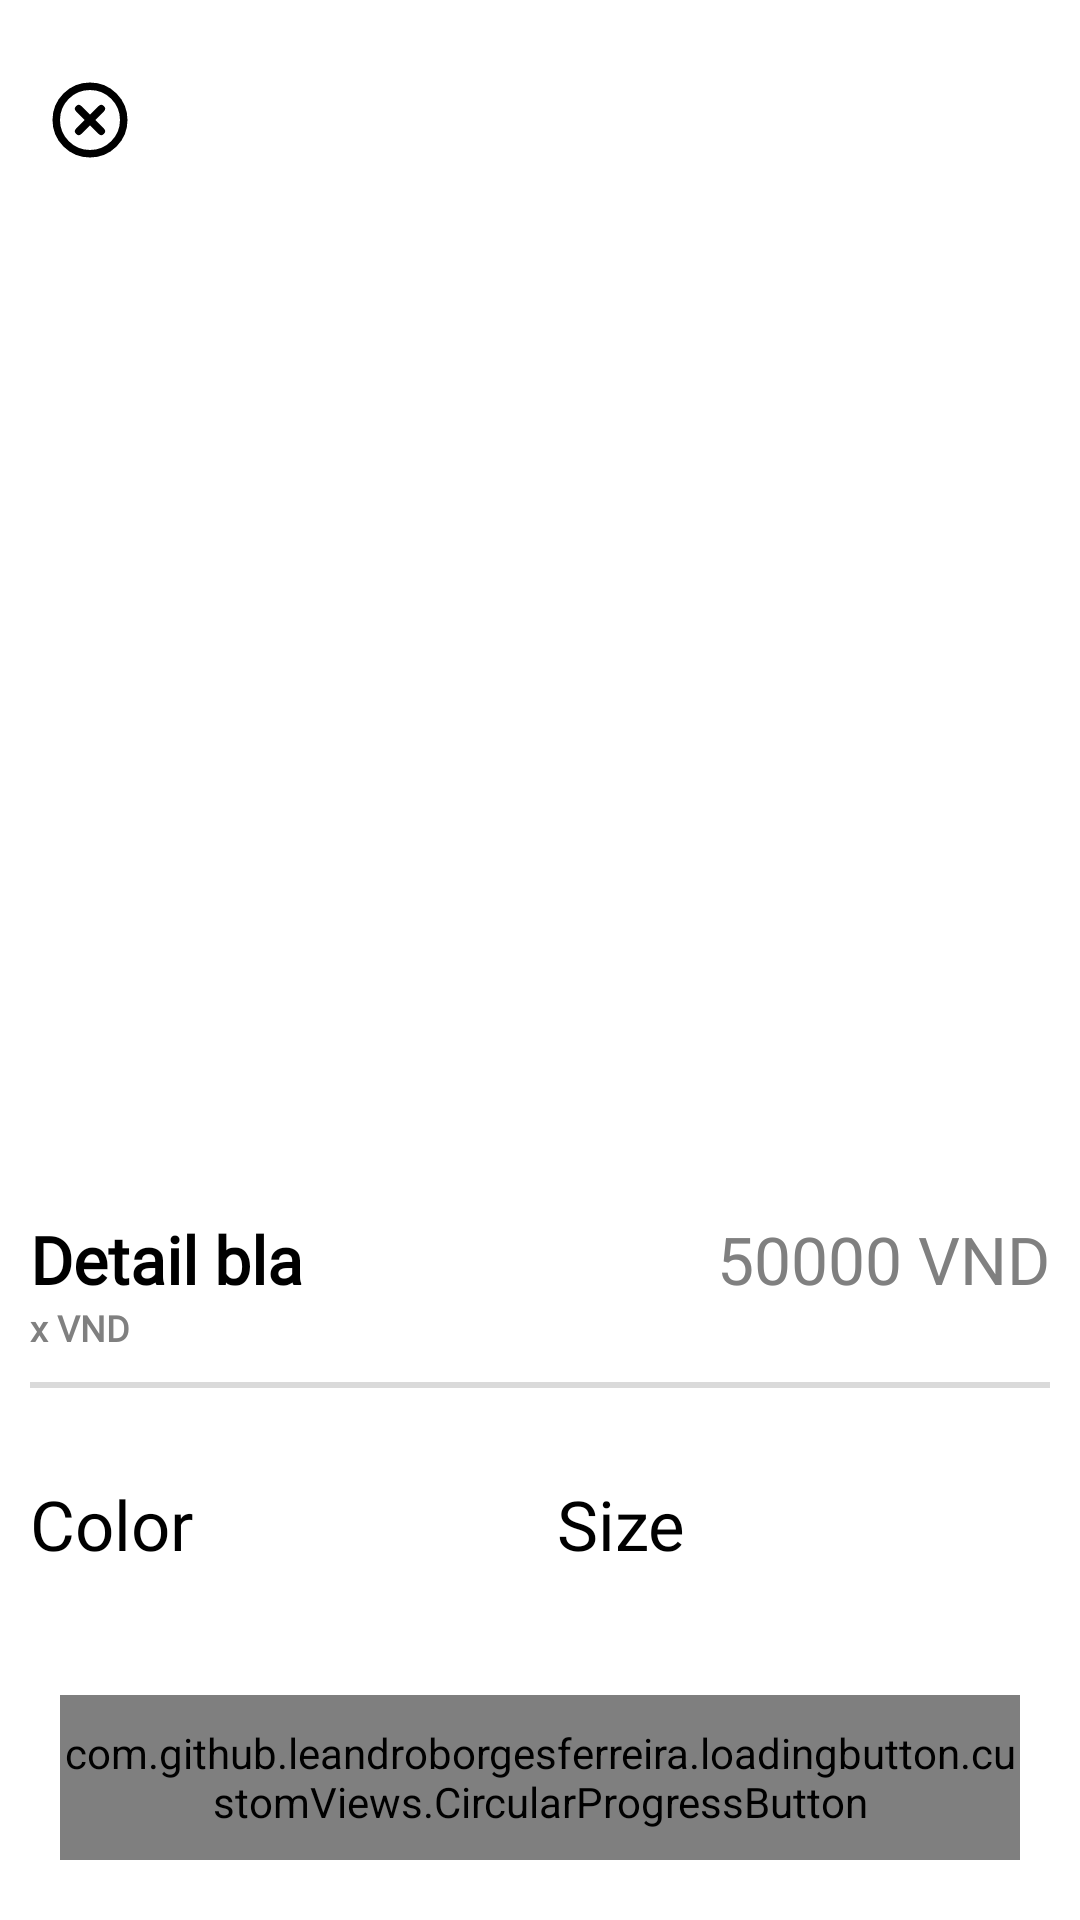

Icons on this 1080px x 1920px Android screen, each with the point to tap as [x,y]:
close: [90,120]
